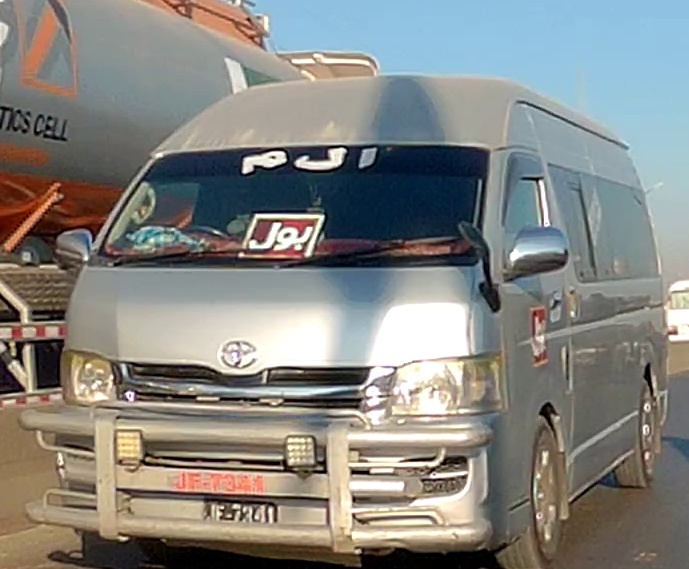van: (20, 74, 669, 569)
